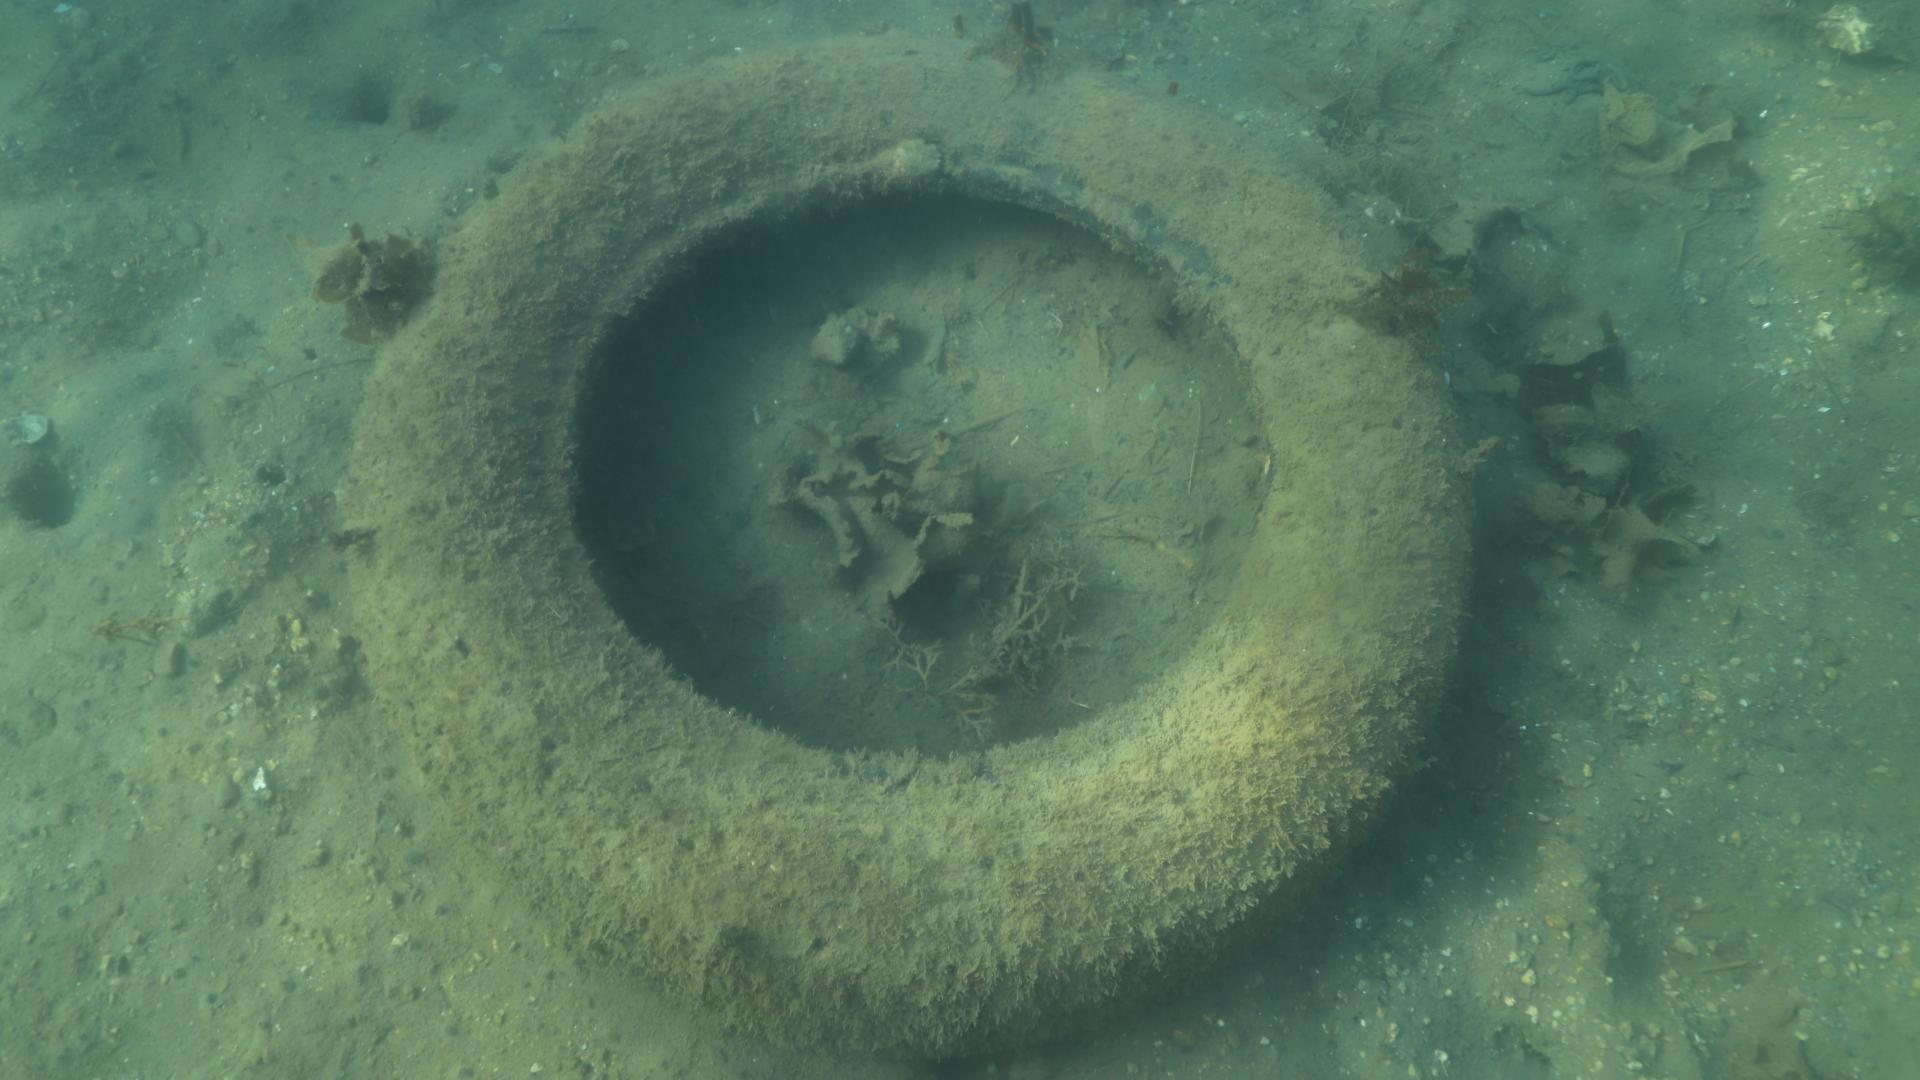tire: (344, 32, 1478, 1055)
